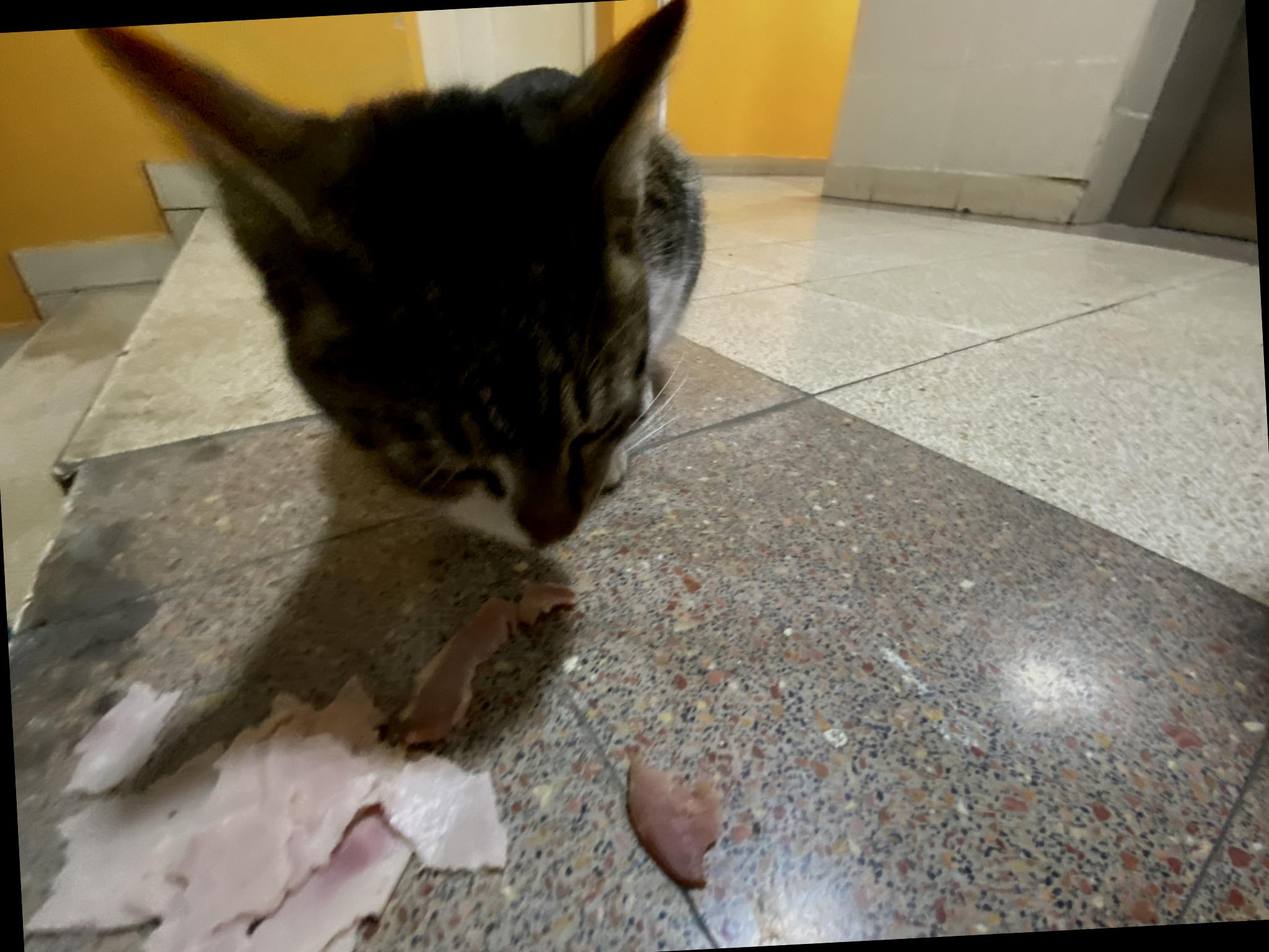macka: (82, 0, 721, 575)
